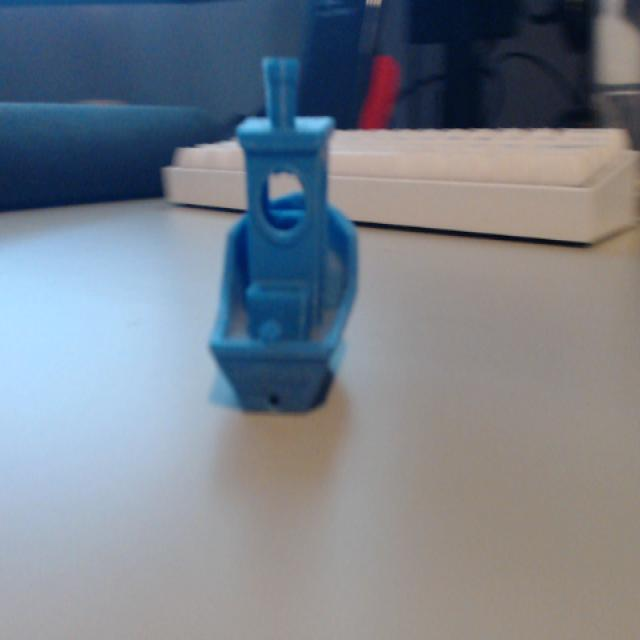benchy: (205, 52, 361, 415)
